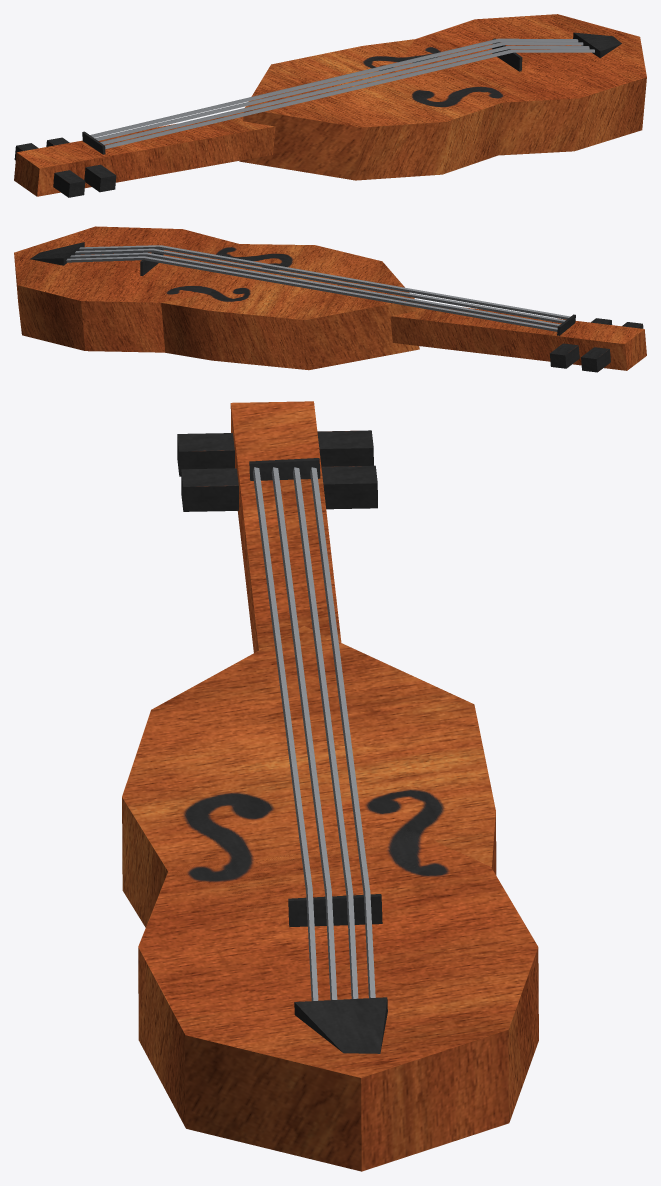
The model's file is Violin.fbx.
3 views of the same model, one above another, from view 1: azimuth 30°, elevation 25°; view 2: azimuth 150°, elevation 25°; view 3: azimuth 270°, elevation 25° (orthographic). The views are drawn at different scales.
Parts seen in each view (by area): view 1: group459_pCube4516; view 2: group459_pCube4516; view 3: group459_pCube4516.
Part boxes in pixels (left/top/right/bottom): group459_pCube4516: left=14, top=14, right=646, bottom=197; group459_pCube4516: left=14, top=226, right=646, bottom=372; group459_pCube4516: left=122, top=401, right=538, bottom=1171.
Size of the model in its own units: 0.9432 by 0.1461 by 0.2832.
Materials: 1 (1 with a texture image).
